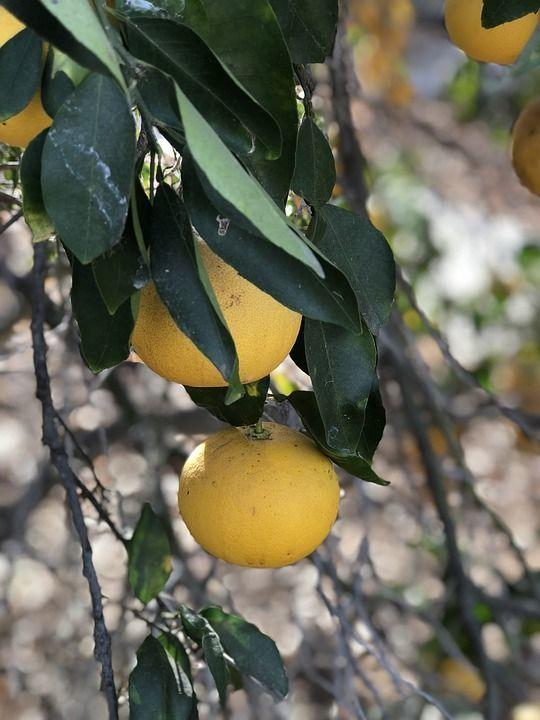Healthy Citrus: (124, 16, 281, 160), (147, 181, 243, 389), (47, 68, 133, 261), (303, 208, 401, 341), (257, 0, 341, 61), (291, 121, 337, 207), (0, 32, 45, 118)
